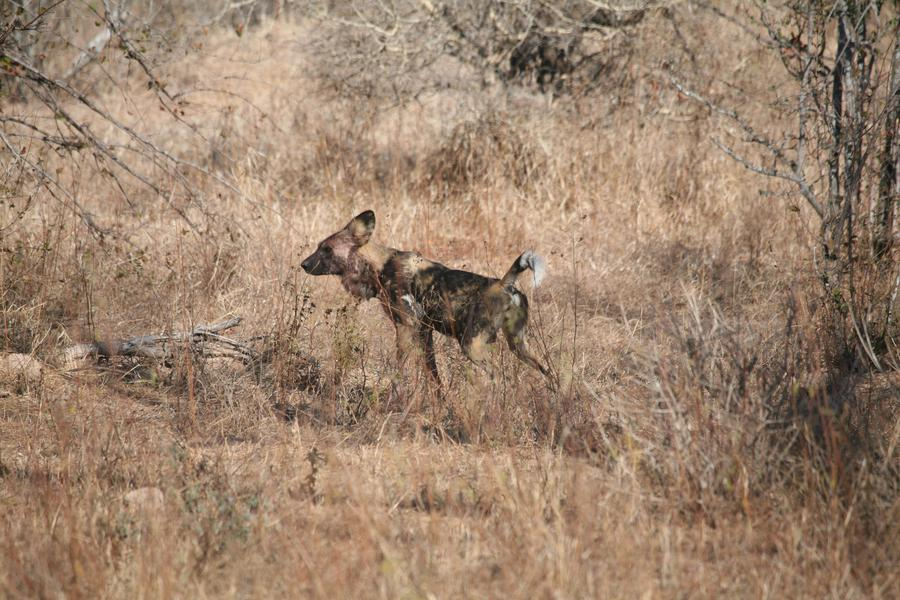wilddog: (293, 205, 528, 347)
